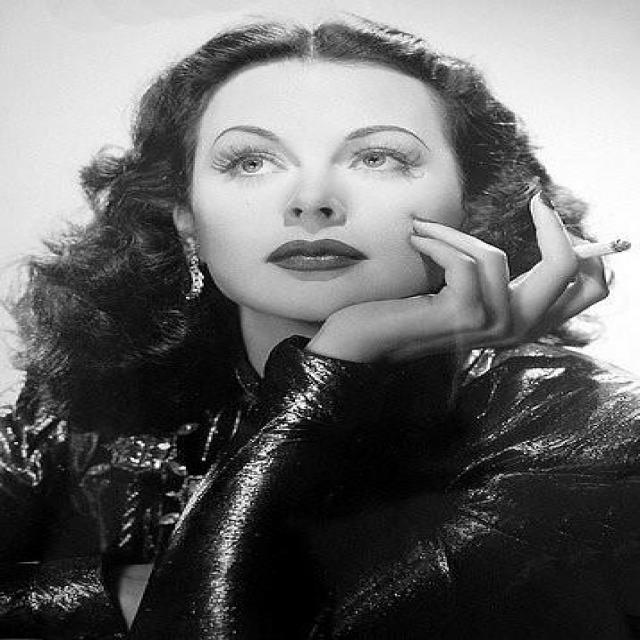Сигарета: (574, 239, 631, 262)
Тело: (25, 20, 640, 640)
